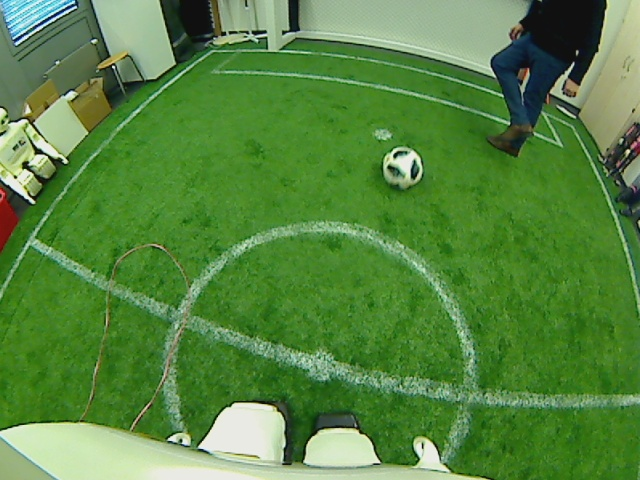ball: (381, 144, 423, 190)
